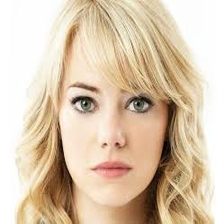no_mask: (58, 59, 166, 204)
